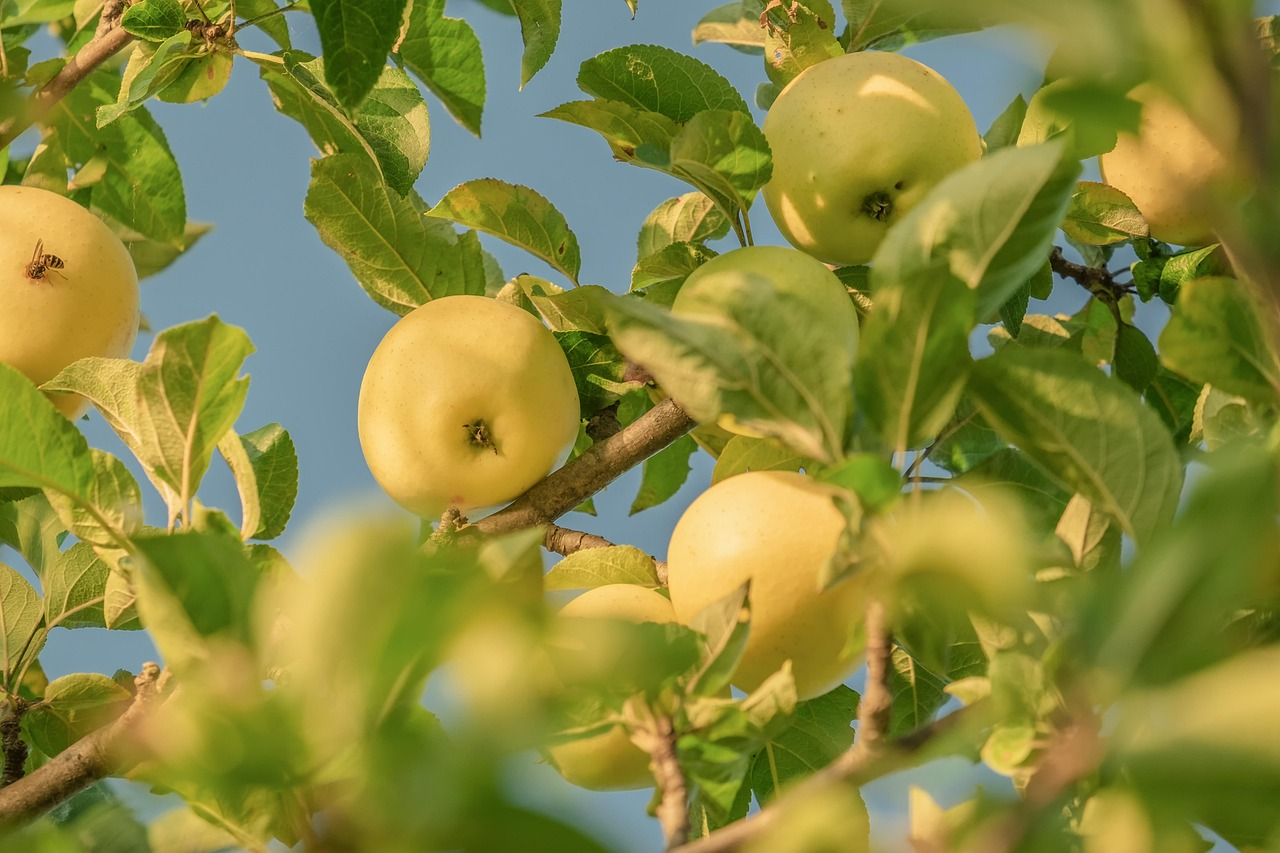apel: (659, 457, 900, 707), (751, 41, 983, 292), (338, 287, 594, 506), (514, 582, 707, 801), (1, 167, 144, 452), (1082, 66, 1280, 261)
